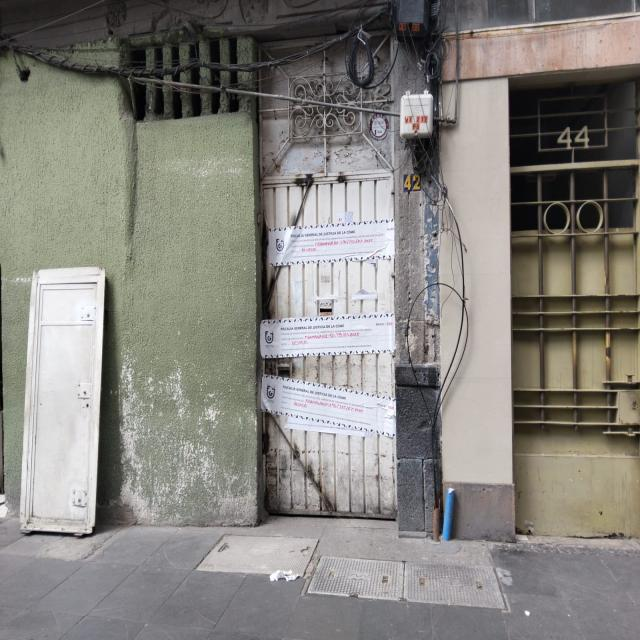stamps: (261, 375, 396, 439), (263, 314, 392, 358), (269, 221, 391, 264)
